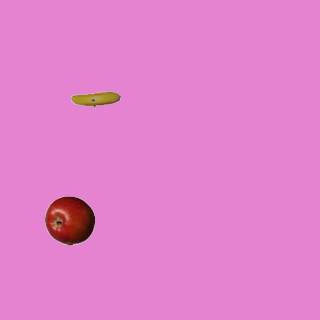Apple Braeburn: (44, 195, 94, 245)
Banana: (70, 74, 120, 124)
